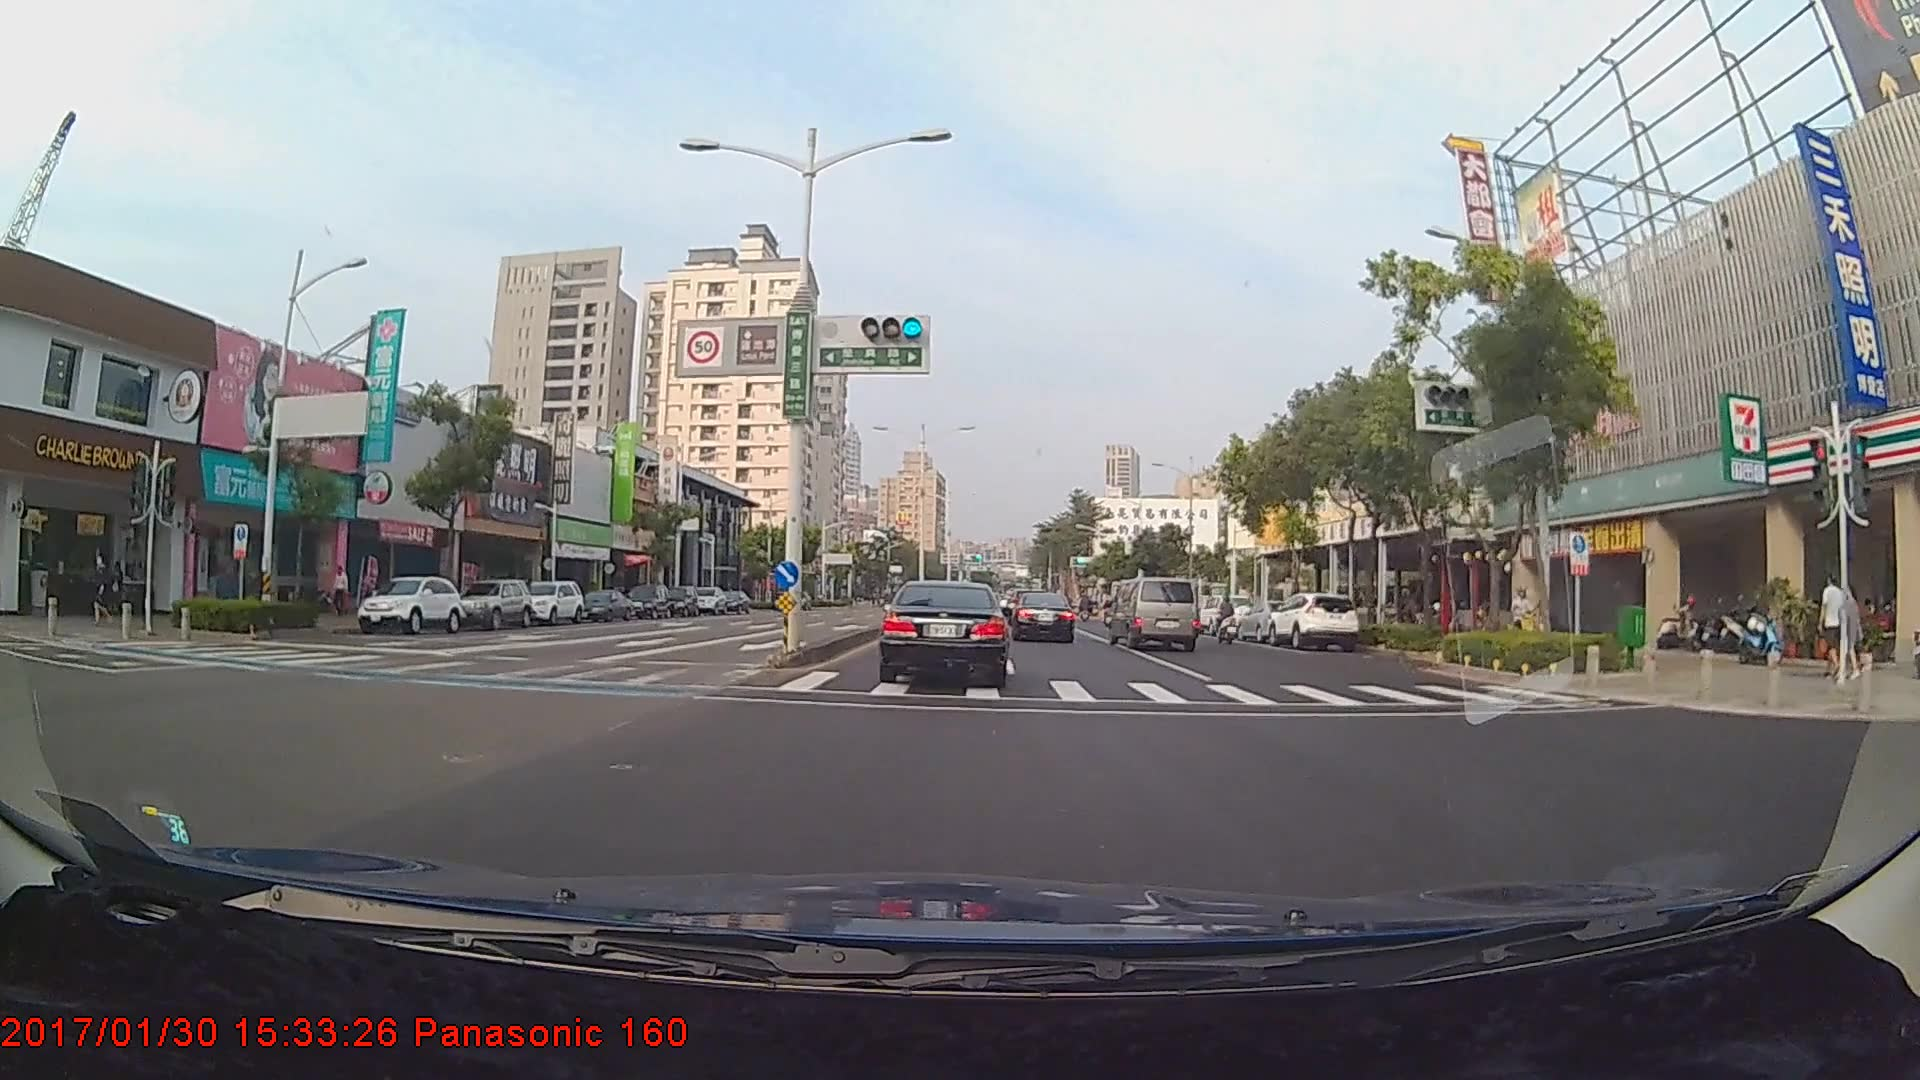pedestrian: (1820, 569, 1851, 679), (1837, 582, 1864, 679), (91, 548, 115, 624), (330, 564, 350, 618)
rider: (1211, 596, 1245, 648)
vehicle: (881, 579, 1008, 688), (1107, 577, 1198, 651), (354, 573, 466, 633), (1263, 590, 1360, 650), (449, 576, 533, 631), (1009, 592, 1076, 643), (516, 578, 584, 626), (1235, 598, 1309, 642), (624, 585, 671, 622), (584, 588, 632, 622), (661, 586, 700, 619)
